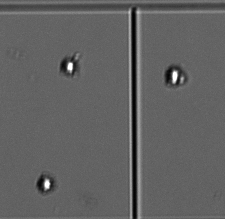Living Cell: (163, 65, 187, 88), (59, 55, 79, 76), (36, 173, 54, 195)
